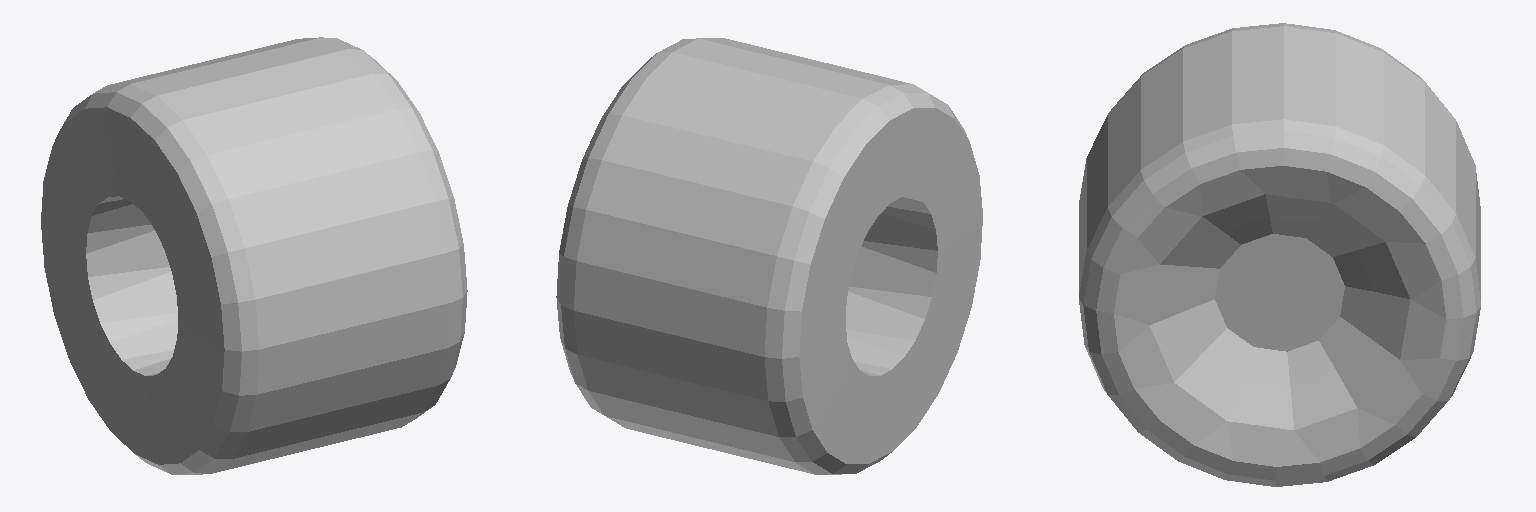
The model's file is YAdelante.obj.
The picture shows the model from 3 angles: view 1: azimuth 30°, elevation 25°; view 2: azimuth 150°, elevation 25°; view 3: azimuth 270°, elevation 25°; orthographic projection.
Visible parts, largest first — view 1: polySurface36 polySurface2; view 2: polySurface36 polySurface2; view 3: polySurface36 polySurface2.
Boxes of the visible parts, x1=… form: polySurface36 polySurface2: x1=41, y1=37, x2=467, y2=474; polySurface36 polySurface2: x1=556, y1=38, x2=982, y2=474; polySurface36 polySurface2: x1=1079, y1=23, x2=1480, y2=486.
Size of the model in its own units: 0.0913 by 0.1287 by 0.1287.